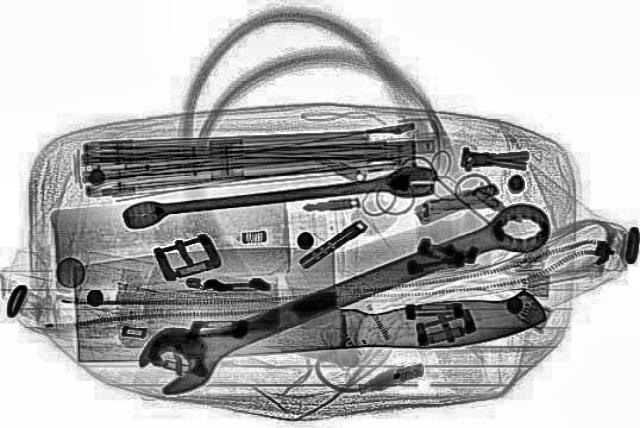Knife: (67, 239, 547, 363)
Wrench: (116, 192, 574, 398), (117, 161, 443, 229)
